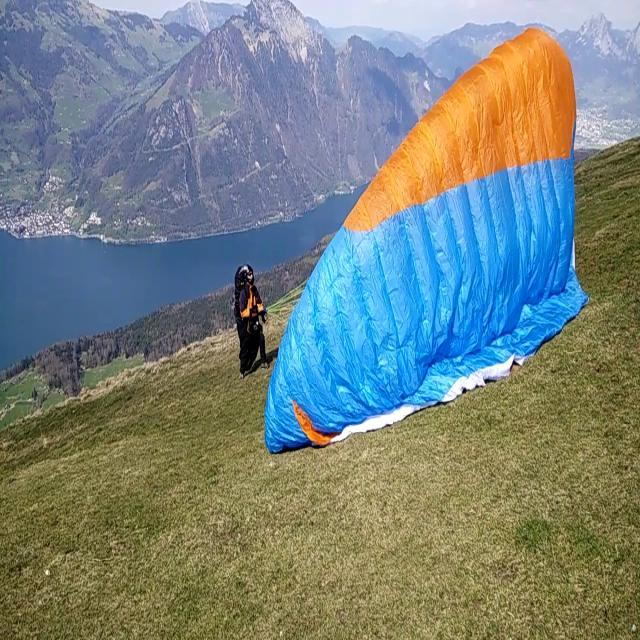paraglider: (263, 25, 589, 454)
